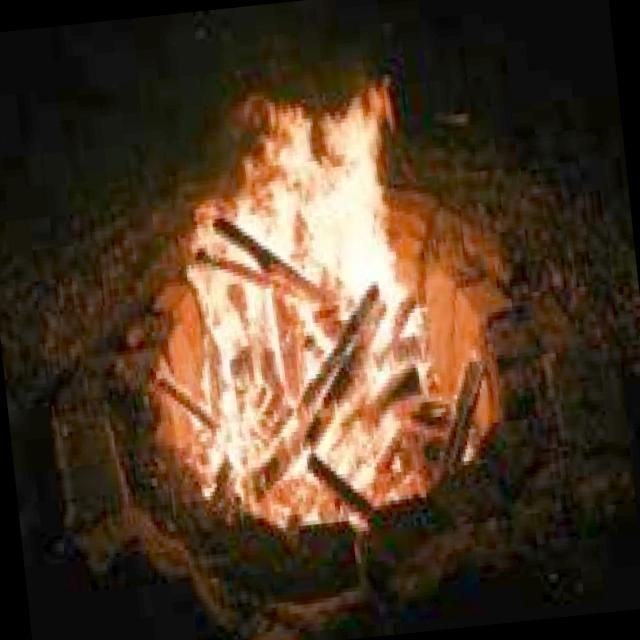Fire_Save: (106, 59, 536, 556)
